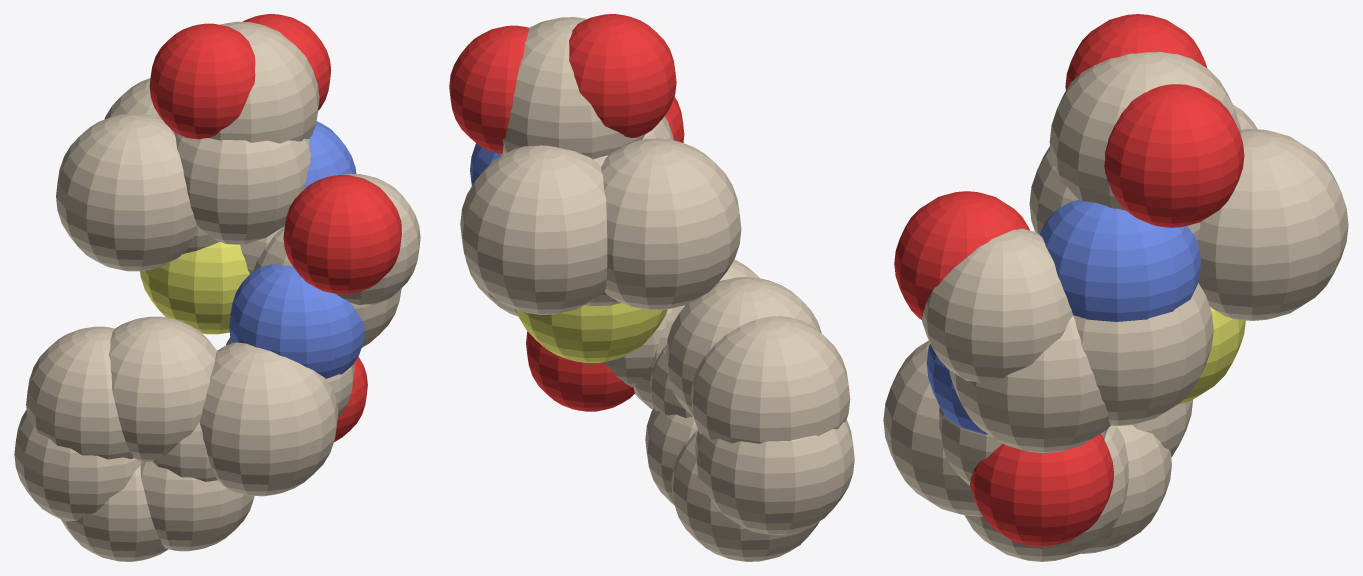
File: PNM.fbx
3 renders of one model, left to right at view 1: azimuth 30°, elevation 25°; view 2: azimuth 150°, elevation 25°; view 3: azimuth 270°, elevation 25°, orthographic. The views are drawn at different scales.
Parts seen in each view (by area): view 1: ShapeSphere.001; view 2: ShapeSphere.001; view 3: ShapeSphere.001.
Part boxes in pixels (x1=…): ShapeSphere.001: x1=14, y1=14, x2=420, y2=561; ShapeSphere.001: x1=449, y1=14, x2=854, y2=561; ShapeSphere.001: x1=883, y1=14, x2=1348, y2=561.
Size of the model in its own units: 950 by 1265 by 909.
